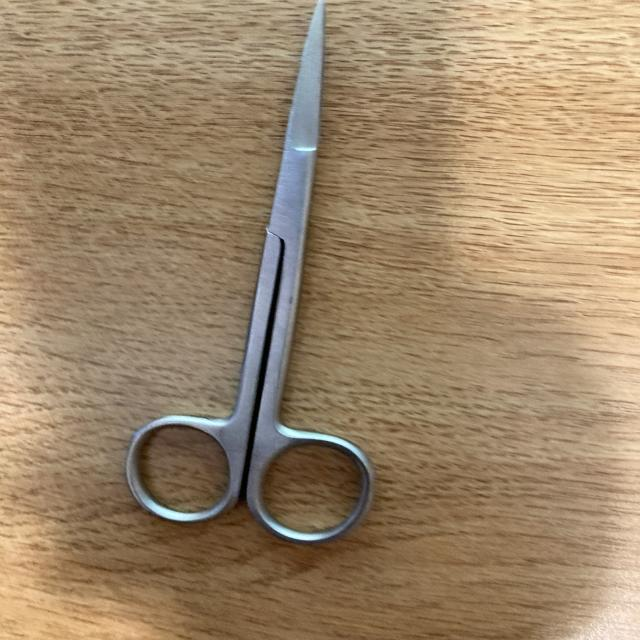scissor: (121, 3, 382, 550)
